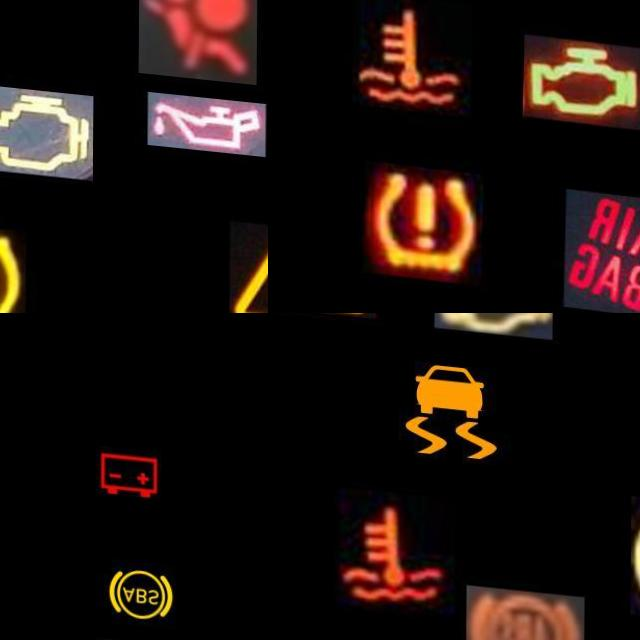Central Warning lamp: (230, 212, 268, 313)
Engine cooling system: (337, 484, 455, 612), (352, 0, 473, 110)
